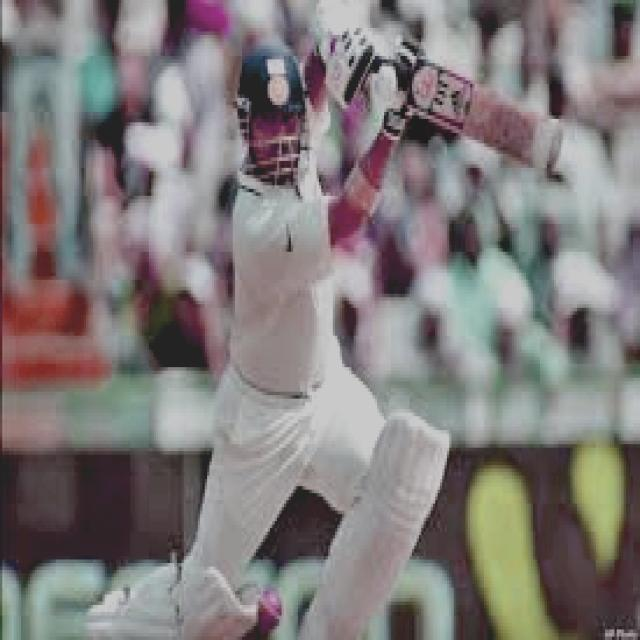bat: (404, 51, 576, 176)
toe: (542, 123, 560, 173)
